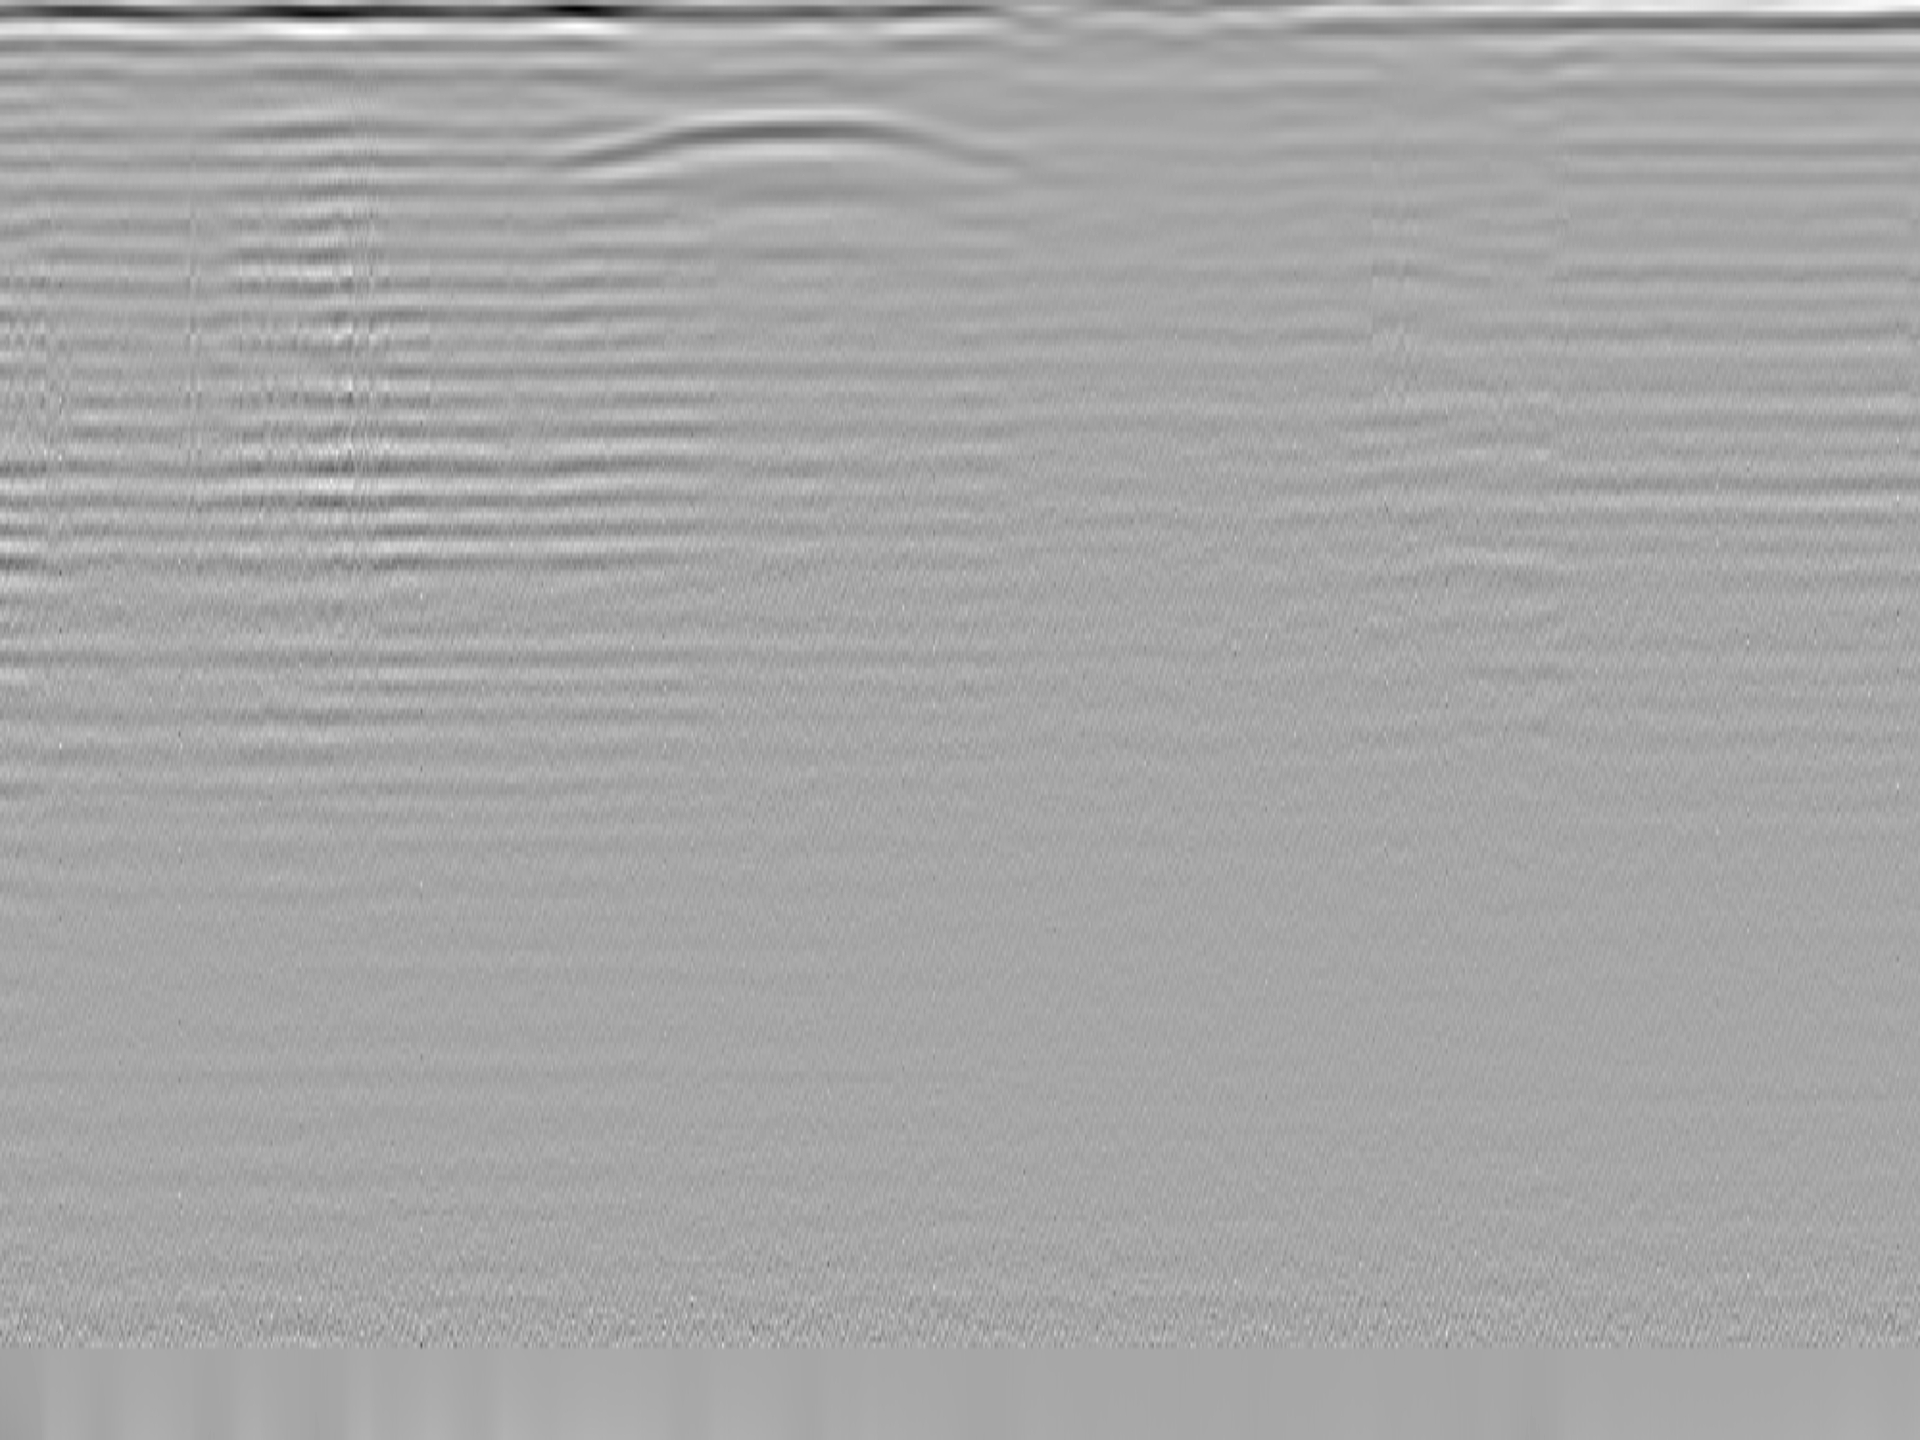Tunnel: (538, 109, 1045, 178)
